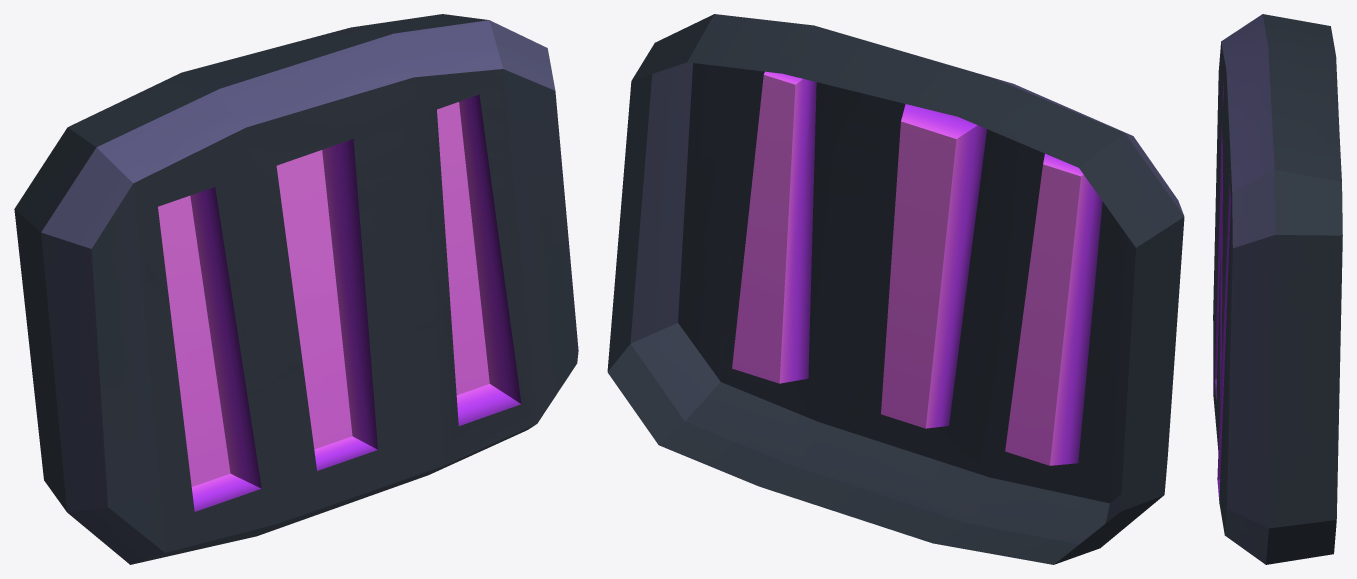
Rendered from undead_oven_win.fbx.
3 views of the same model, side by side, from view 1: azimuth 30°, elevation 25°; view 2: azimuth 150°, elevation 25°; view 3: azimuth 270°, elevation 25° (orthographic). The views are drawn at different scales.
Parts seen in each view (by area): view 1: undead_oven_win; view 2: undead_oven_win; view 3: undead_oven_win.
Part boxes in pixels (x1,y1,x2,y2): undead_oven_win: (14, 14, 578, 564); undead_oven_win: (607, 14, 1184, 564); undead_oven_win: (1213, 14, 1342, 564).
Bounding box in the file's own units: 1.65 × 1.34 × 0.3716.
